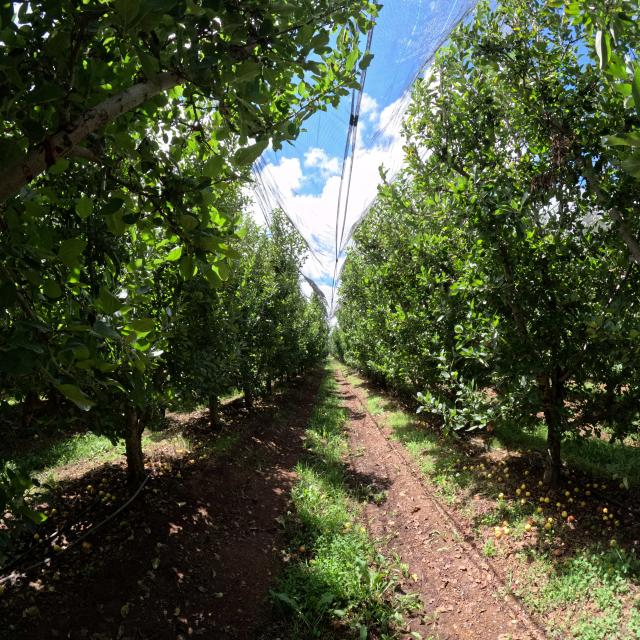-FireBlight-: (530, 133, 574, 192)
